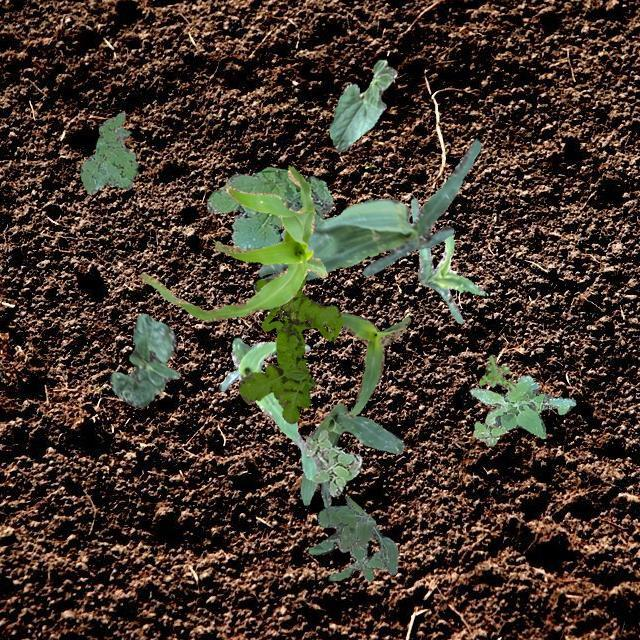crop: (258, 138, 480, 280), (140, 165, 326, 321), (218, 336, 320, 479), (298, 402, 404, 507), (409, 198, 484, 322), (340, 312, 410, 416), (109, 313, 180, 407), (328, 58, 396, 150)
weed: (236, 274, 342, 422), (206, 166, 332, 250), (468, 374, 574, 444), (316, 496, 398, 574), (80, 112, 138, 194), (308, 522, 384, 580), (304, 428, 362, 496), (478, 354, 514, 389)
